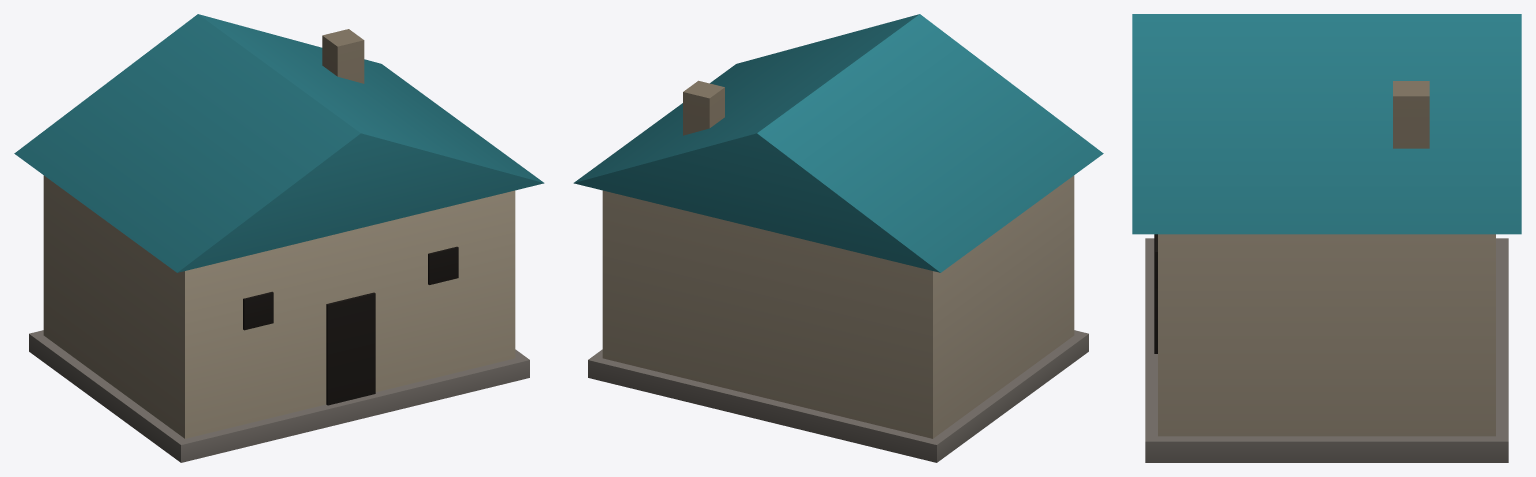
Rendered from house_c.glb.
The picture shows the model from 3 angles, left to right: view 1: azimuth 30°, elevation 25°; view 2: azimuth 150°, elevation 25°; view 3: azimuth 270°, elevation 25°; orthographic projection. The views are drawn at different scales.
Parts seen in each view (by area): view 1: house_c; view 2: house_c; view 3: house_c.
Part boxes in pixels (x1,y1,x2,y2): house_c: (14,14,544,462); house_c: (573,14,1103,462); house_c: (1132,14,1521,462).
Bounding box in the file's own units: 6.9 × 5.22 × 5.3.
